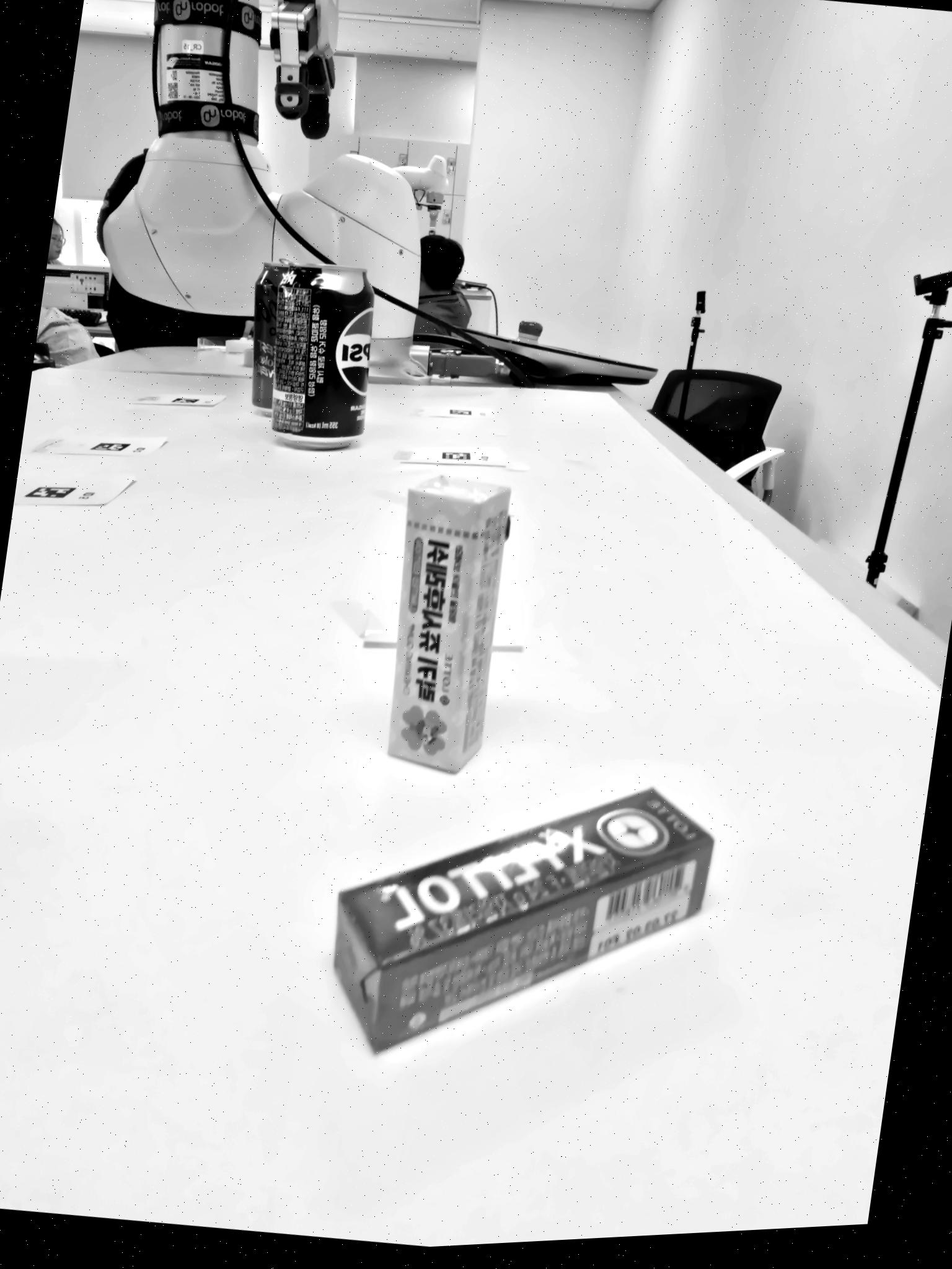gum_green: (328, 787, 716, 1057)
gum_yellow: (386, 472, 511, 772)
